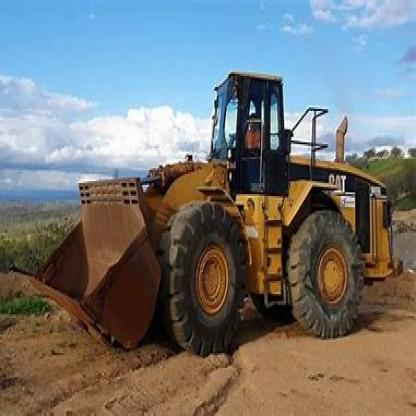bull_dozer/loader/grader: (10, 66, 407, 362)
